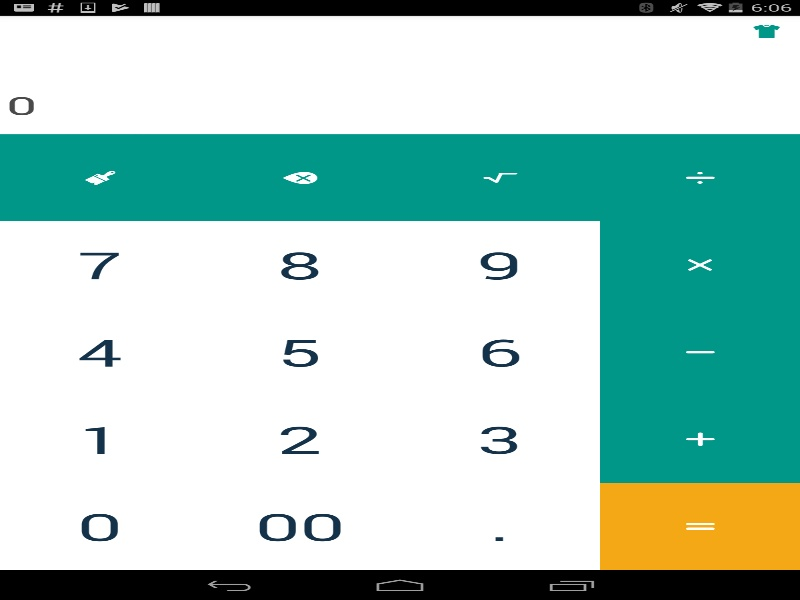Input: (0, 15, 800, 134)
